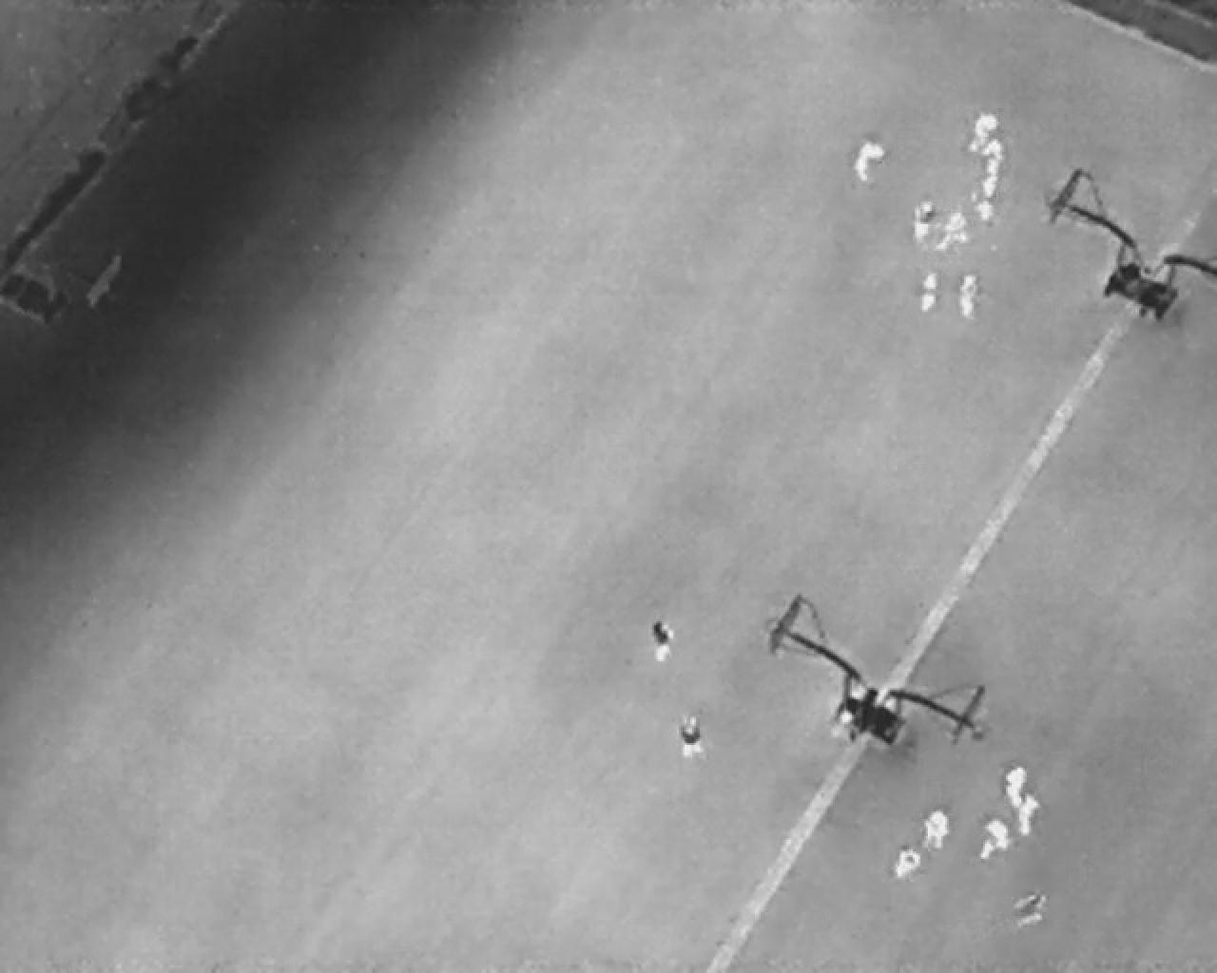person: (935, 200, 978, 259), (849, 136, 887, 187), (963, 109, 1003, 157), (889, 843, 927, 885), (921, 807, 954, 854), (1001, 763, 1032, 811), (1013, 793, 1043, 839), (908, 199, 940, 242), (982, 818, 1011, 862), (976, 155, 1001, 200), (918, 269, 942, 313), (678, 715, 703, 757), (651, 620, 676, 660), (961, 271, 980, 320), (980, 134, 1007, 159), (976, 197, 997, 225)
